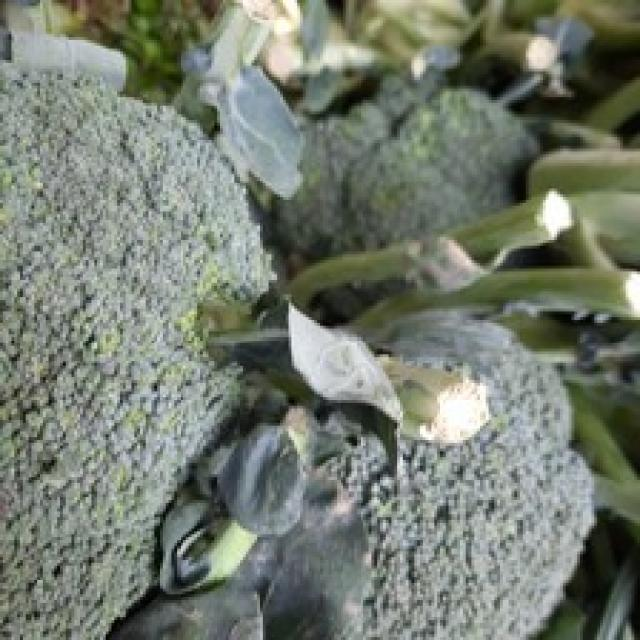Broccoli: (0, 64, 270, 639), (0, 65, 270, 639), (332, 314, 594, 639), (360, 322, 592, 639)
